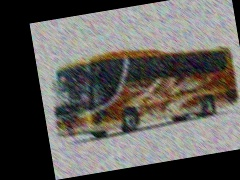bus: (45, 32, 240, 146)
